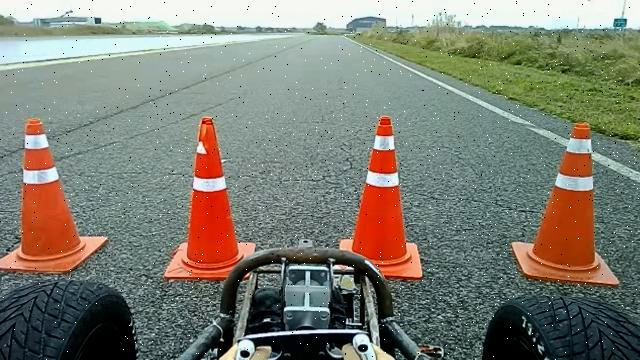red cone: (512, 121, 620, 287), (0, 116, 109, 274), (164, 116, 255, 281), (338, 114, 422, 281)
